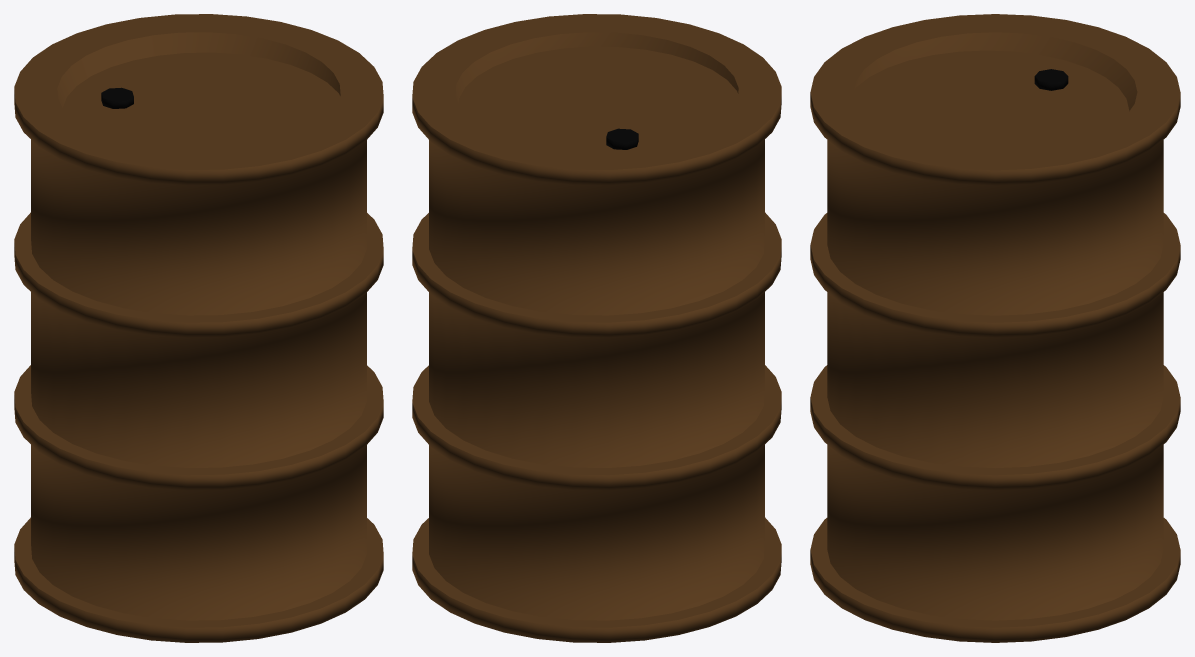
Rendered from barrel.fbx.
The picture shows the model from 3 angles, left to right: view 1: azimuth 30°, elevation 25°; view 2: azimuth 150°, elevation 25°; view 3: azimuth 270°, elevation 25°; orthographic projection.
Visible parts, largest first — view 1: Barrel; view 2: Barrel; view 3: Barrel.
Boxes of the visible parts, <box> form: Barrel: <box>14,14,383,642</box>; Barrel: <box>412,14,781,642</box>; Barrel: <box>810,14,1180,642</box>.
Bounding box in the file's own units: 110 × 155 × 110.
